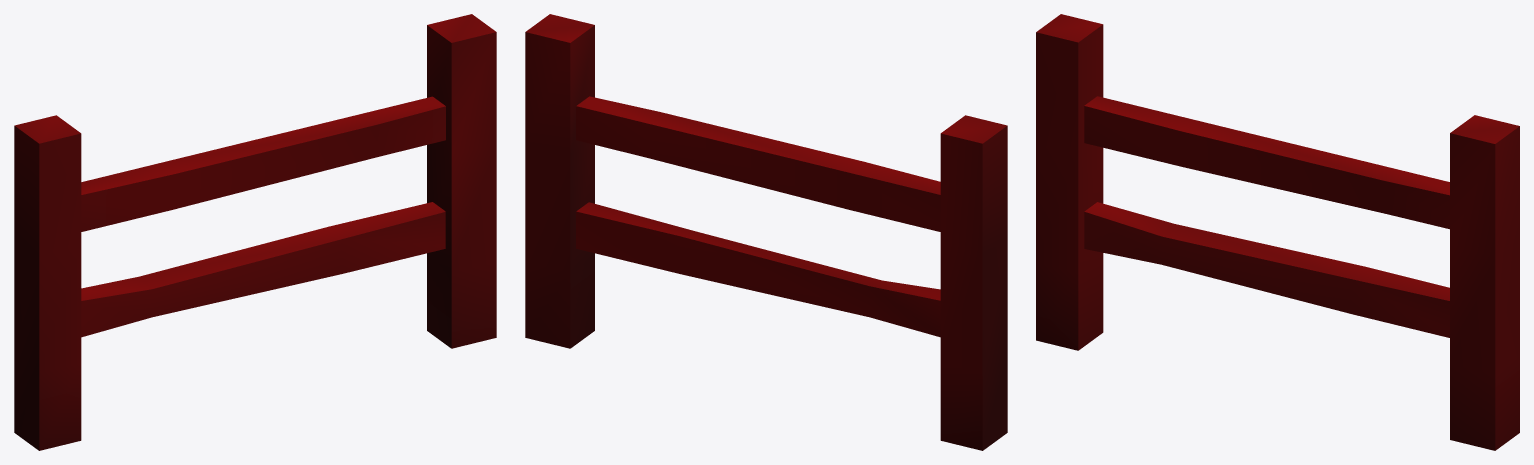
Rendered from WoodenFence001.glb.
3 views of the same model, side by side, from view 1: azimuth 30°, elevation 25°; view 2: azimuth 150°, elevation 25°; view 3: azimuth 330°, elevation 25° (orthographic).
Visible parts, largest first — view 1: WoodenFence001; view 2: WoodenFence001; view 3: WoodenFence001.
Boxes of the visible parts, box(x1,y1,x2,y2) form: WoodenFence001: box(14, 14, 496, 450); WoodenFence001: box(525, 14, 1007, 450); WoodenFence001: box(1036, 14, 1519, 450).
Size of the model in its own units: 11.06 by 7.15 by 1.04.
